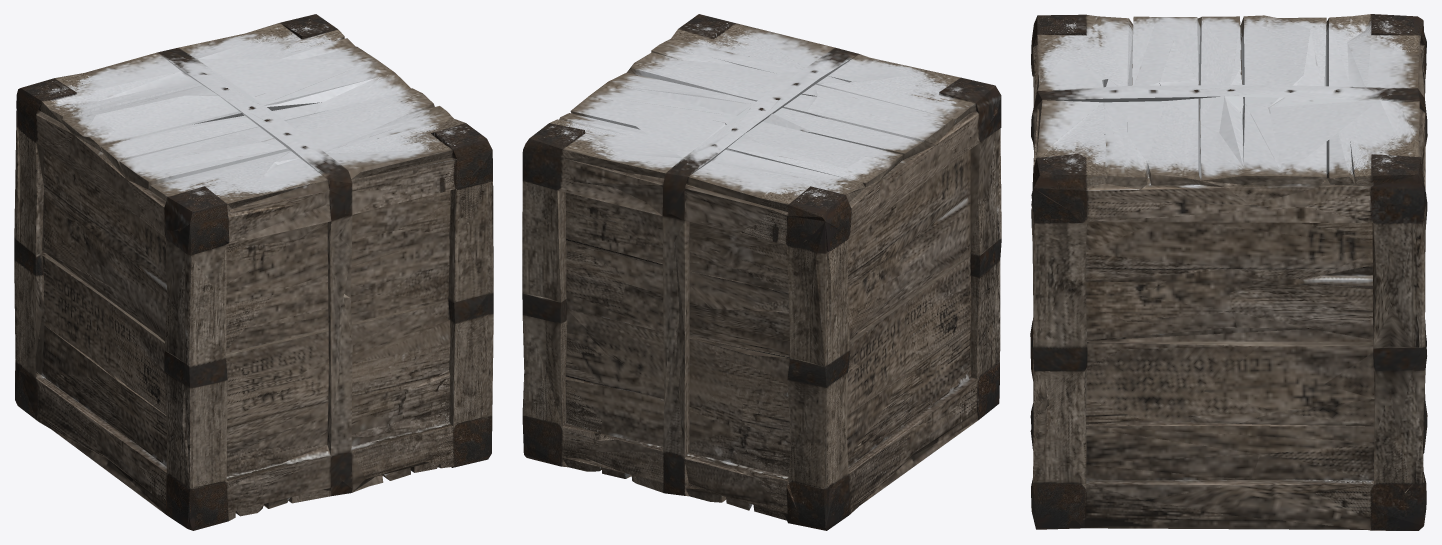
File: crate.glb
3 renders of one model, left to right at view 1: azimuth 30°, elevation 25°; view 2: azimuth 150°, elevation 25°; view 3: azimuth 270°, elevation 25°, orthographic. The views are drawn at different scales.
Visible parts, largest first — view 1: output_unwrapped; view 2: output_unwrapped; view 3: output_unwrapped.
Boxes of the visible parts, left/top/right/bottom form: output_unwrapped: left=14, top=14, right=493, bottom=530; output_unwrapped: left=522, top=14, right=1001, bottom=530; output_unwrapped: left=1030, top=14, right=1427, bottom=530.
Bounding box in the file's own units: 1.89 × 1.9 × 1.89.
1 material, 1 textured.
